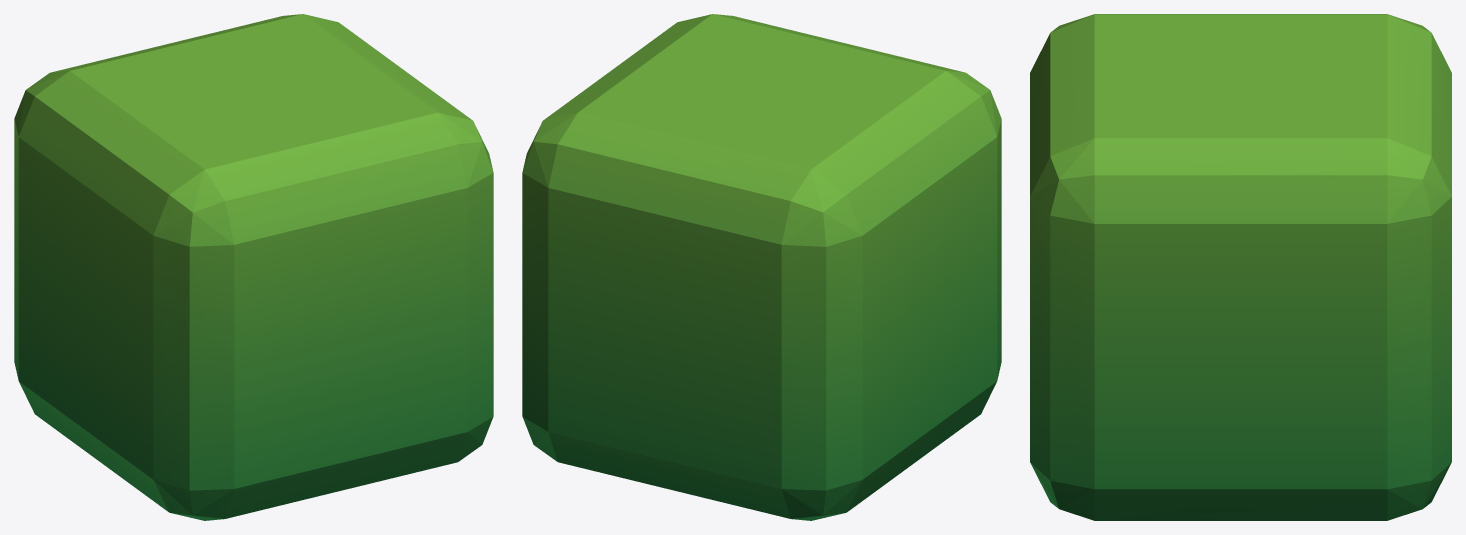
Rendered from kf_bush_2_c.fbx.
3 views of the same model, side by side, from view 1: azimuth 30°, elevation 25°; view 2: azimuth 150°, elevation 25°; view 3: azimuth 270°, elevation 25° (orthographic). The views are drawn at different scales.
Visible parts, largest first — view 1: kf_bush_2_c; view 2: kf_bush_2_c; view 3: kf_bush_2_c.
Boxes of the visible parts, left/top/right/bottom form: kf_bush_2_c: left=14, top=14, right=493, bottom=520; kf_bush_2_c: left=522, top=14, right=1001, bottom=520; kf_bush_2_c: left=1030, top=14, right=1451, bottom=520.
Bounding box in the file's own units: 2.11 × 2.11 × 2.11.
